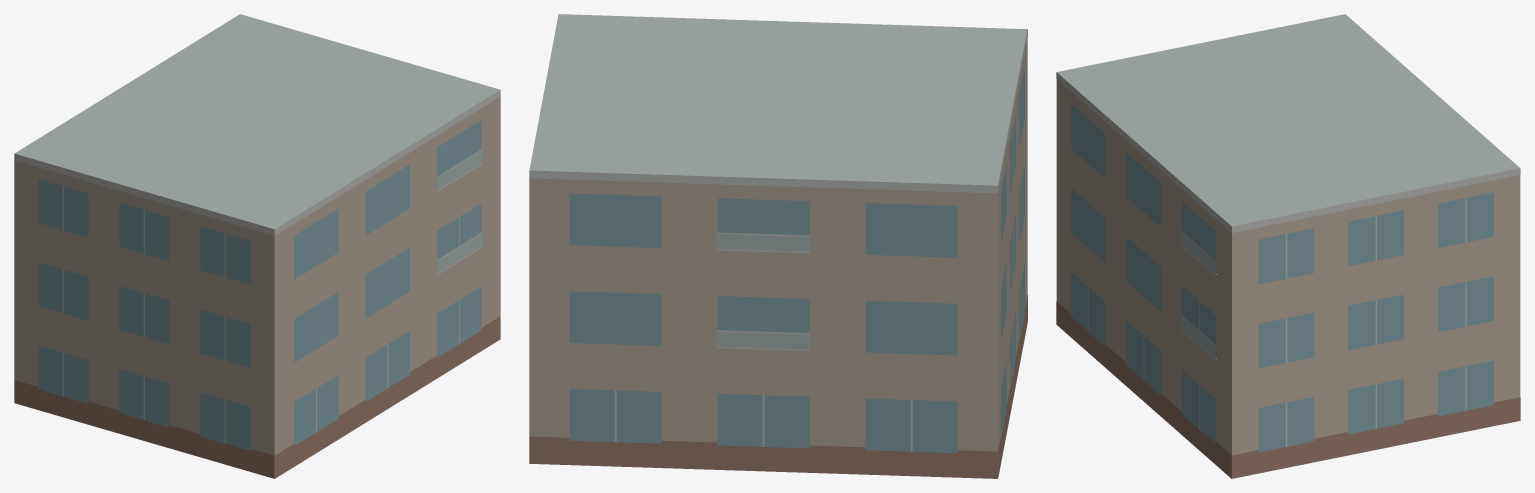
Rendered from survey-upis-32698031.glb.
3 views of the same model, side by side, from view 1: azimuth 30°, elevation 25°; view 2: azimuth 150°, elevation 25°; view 3: azimuth 270°, elevation 25° (orthographic). The views are drawn at different scales.
Visible parts, largest first — view 1: survey-upis-32698031.tmp; view 2: survey-upis-32698031.tmp; view 3: survey-upis-32698031.tmp.
Part boxes in pixels (x1,y1,x2,y2): survey-upis-32698031.tmp: [14, 14, 500, 478]; survey-upis-32698031.tmp: [529, 14, 1027, 478]; survey-upis-32698031.tmp: [1056, 14, 1520, 478].
Size of the model in its own units: 16.52 by 9.15 by 15.25.
